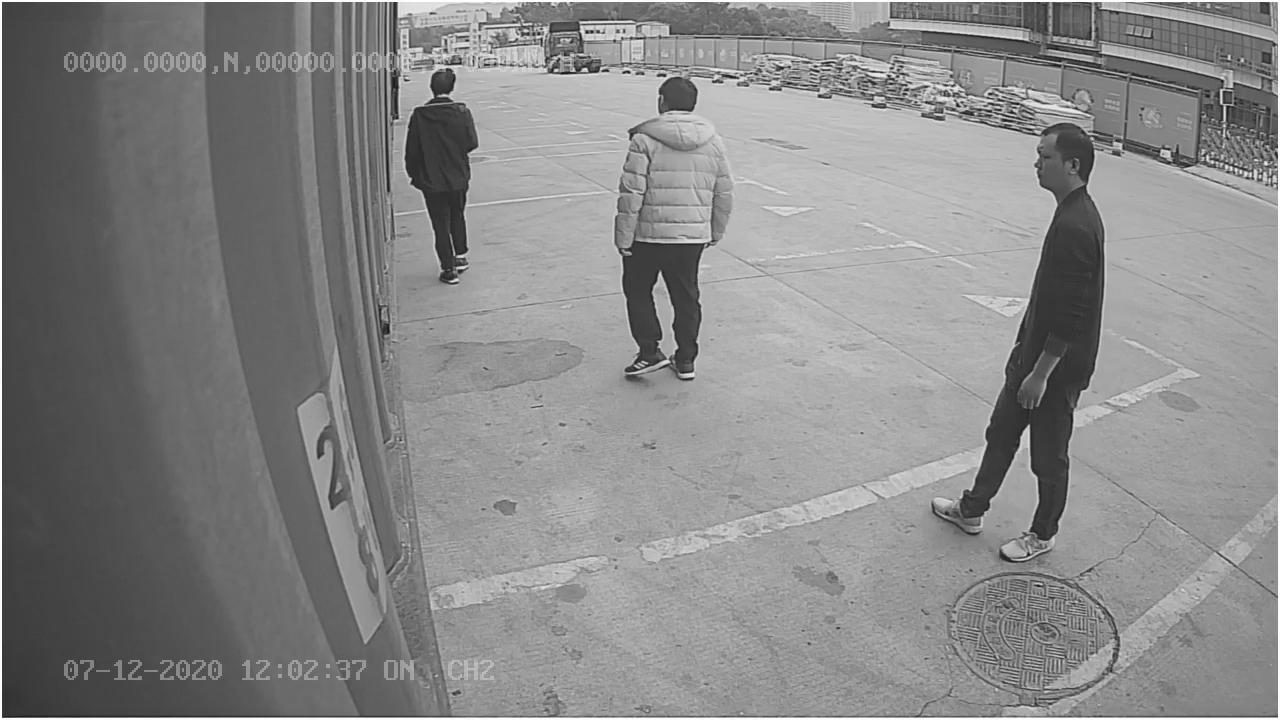person: (927, 115, 1113, 565), (608, 75, 736, 380), (396, 63, 491, 306)
